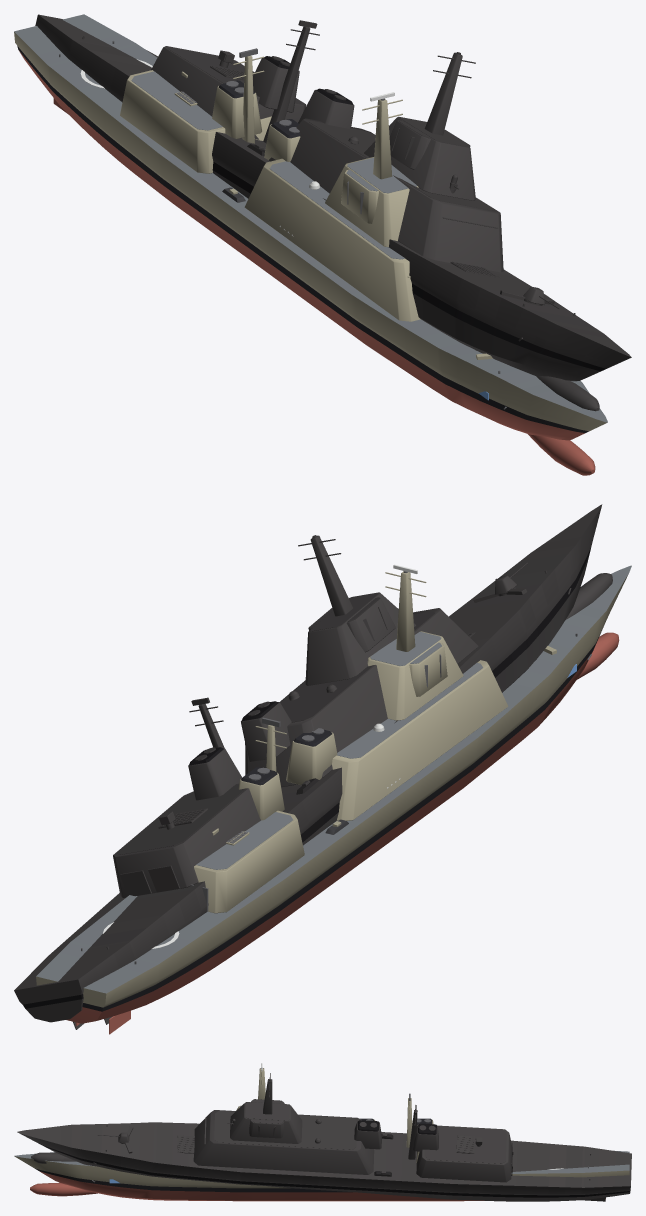
The model's file is destroyer__type_055.glb.
3 views of the same model, one above another, from view 1: azimuth 30°, elevation 25°; view 2: azimuth 150°, elevation 25°; view 3: azimuth 270°, elevation 25° (orthographic). The views are drawn at different scales.
Parts seen in each view (by area): view 1: Hull_Mesh, Wreck; view 2: Hull_Mesh, Wreck; view 3: Wreck, Hull_Mesh.
Boxes of the visible parts, x1,y1,x2,y2 form: Hull_Mesh: (14, 14, 607, 475); Wreck: (35, 14, 631, 411); Hull_Mesh: (36, 565, 631, 1034); Wreck: (14, 504, 612, 1029); Wreck: (17, 1073, 631, 1201); Hull_Mesh: (14, 1068, 629, 1201).
Size of what is drawn, in the model's own units: 29.43 by 47.41 by 188.
